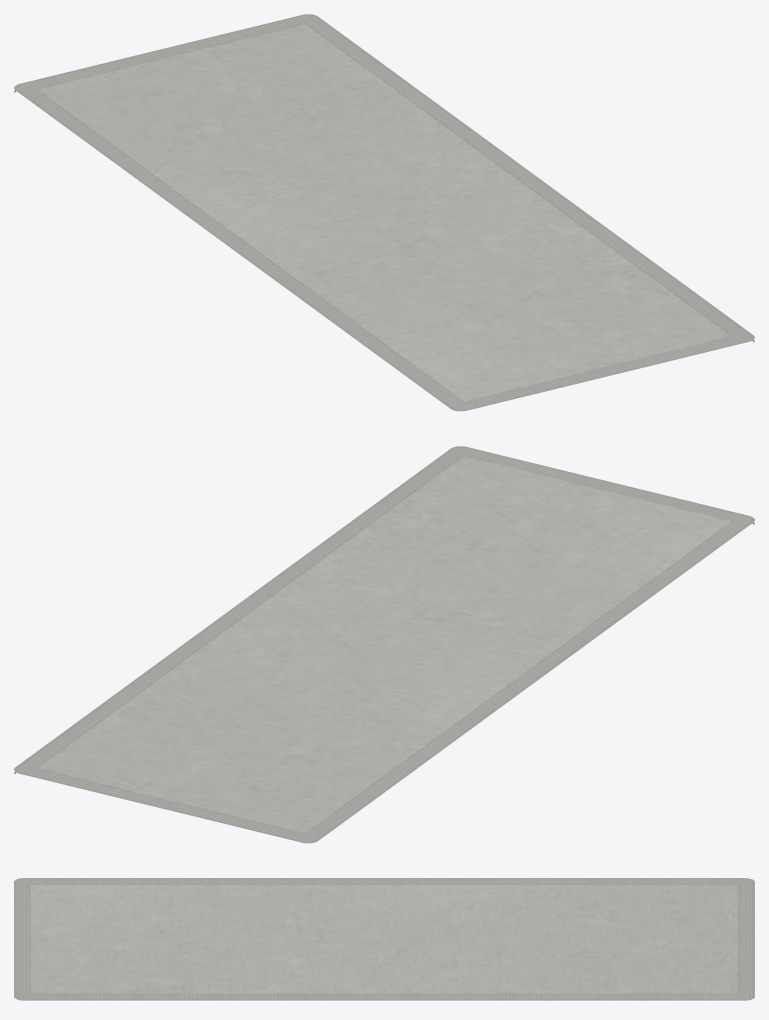
File: gray_kitchen.glb
The picture shows the model from 3 angles, top to bottom: view 1: azimuth 30°, elevation 25°; view 2: azimuth 150°, elevation 25°; view 3: azimuth 270°, elevation 25°; orthographic projection. The views are drawn at different scales.
Visible parts, largest first — view 1: reliv_gray_kitchen; view 2: reliv_gray_kitchen; view 3: reliv_gray_kitchen.
Part boxes in pixels (left/top/right/bottom): reliv_gray_kitchen: left=14, top=14, right=754, bottom=411; reliv_gray_kitchen: left=14, top=446, right=754, bottom=843; reliv_gray_kitchen: left=14, top=878, right=754, bottom=1000.
Size of the model in its own units: 0.45 by 0.009 by 1.15.
Materials: 2 (1 with a texture image).
